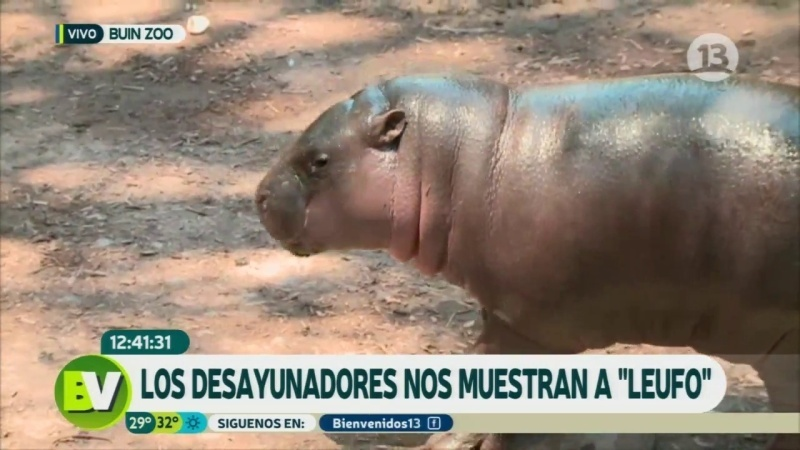hipopotamo: (231, 59, 800, 356)
